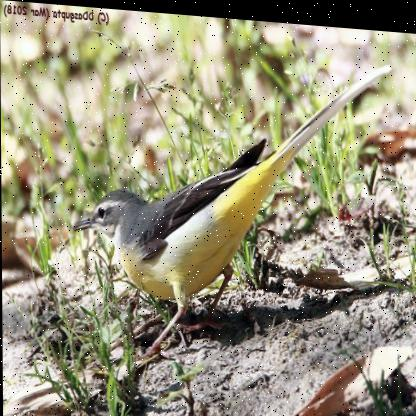Burung: (70, 36, 395, 374)
